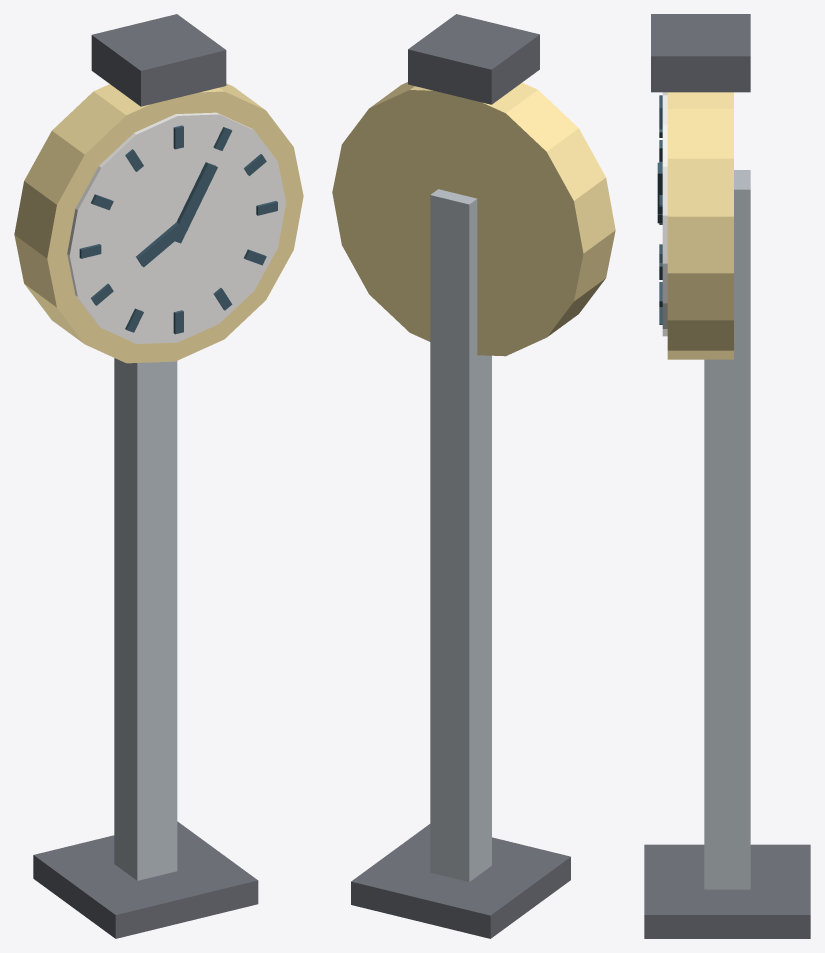
File: TimerClock.fbx
3 renders of one model, left to right at view 1: azimuth 30°, elevation 25°; view 2: azimuth 150°, elevation 25°; view 3: azimuth 270°, elevation 25°, orthographic. The views are drawn at different scales.
Parts seen in each view (by area): view 1: TimerClock; view 2: TimerClock; view 3: TimerClock.
Boxes of the visible parts, box(x1,y1,x2,y2) form: TimerClock: box(14, 14, 303, 938); TimerClock: box(332, 14, 615, 938); TimerClock: box(644, 14, 810, 938).
Size of the model in its own units: 0.9 by 2.88 by 0.5.
